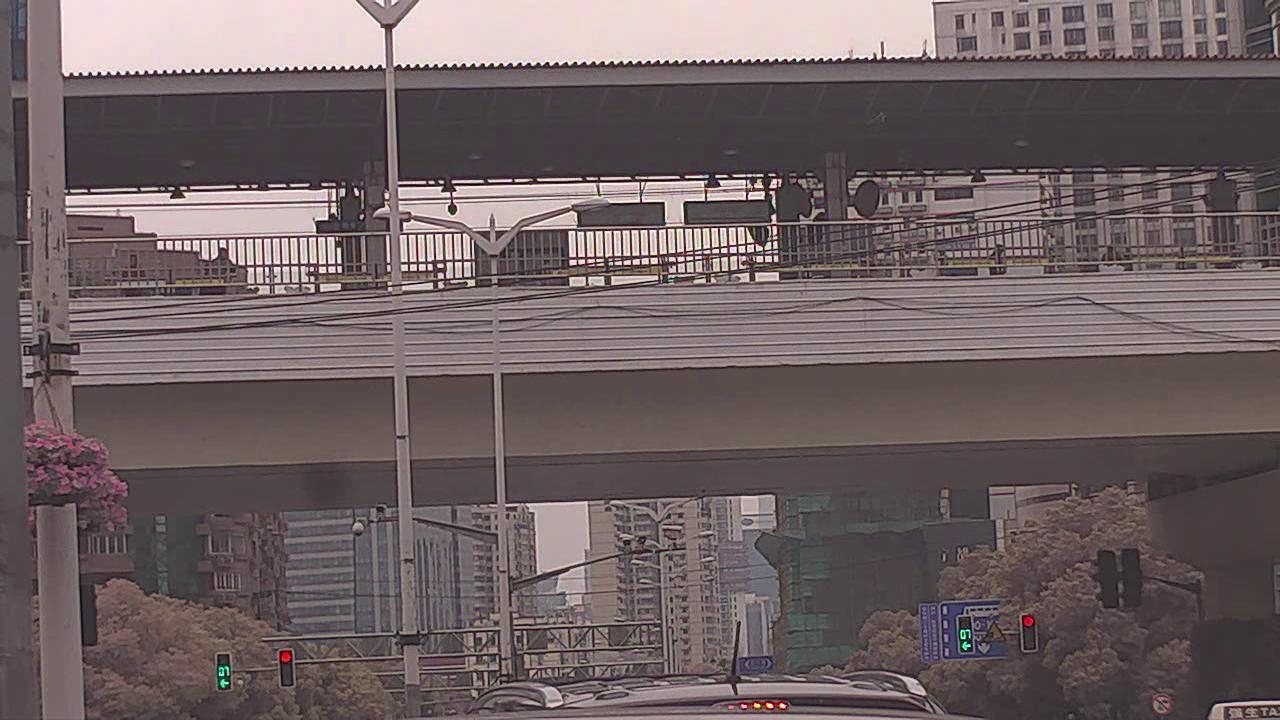traffic_light: (959, 615, 976, 655), (279, 646, 295, 687), (215, 651, 232, 689), (1021, 615, 1038, 652)
